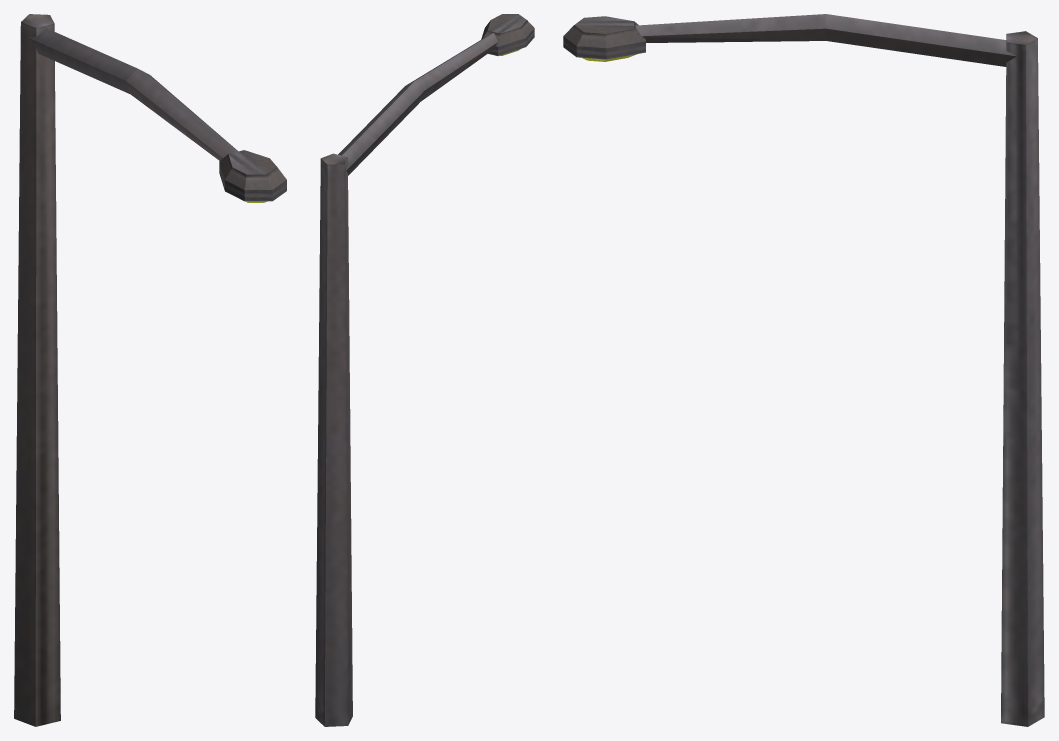
Rendered from lightpole.fbx.
3 renders of one model, left to right at view 1: azimuth 30°, elevation 25°; view 2: azimuth 150°, elevation 25°; view 3: azimuth 270°, elevation 25°, orthographic. The views are drawn at different scales.
Visible parts, largest first — view 1: lightpole; view 2: lightpole; view 3: lightpole.
Part boxes in pixels (x1,y1,x2,y2): lightpole: (14,14,286,726); lightpole: (315,14,534,726); lightpole: (563,14,1044,726).
Size of the model in its own units: 25.19 by 338 by 209.
